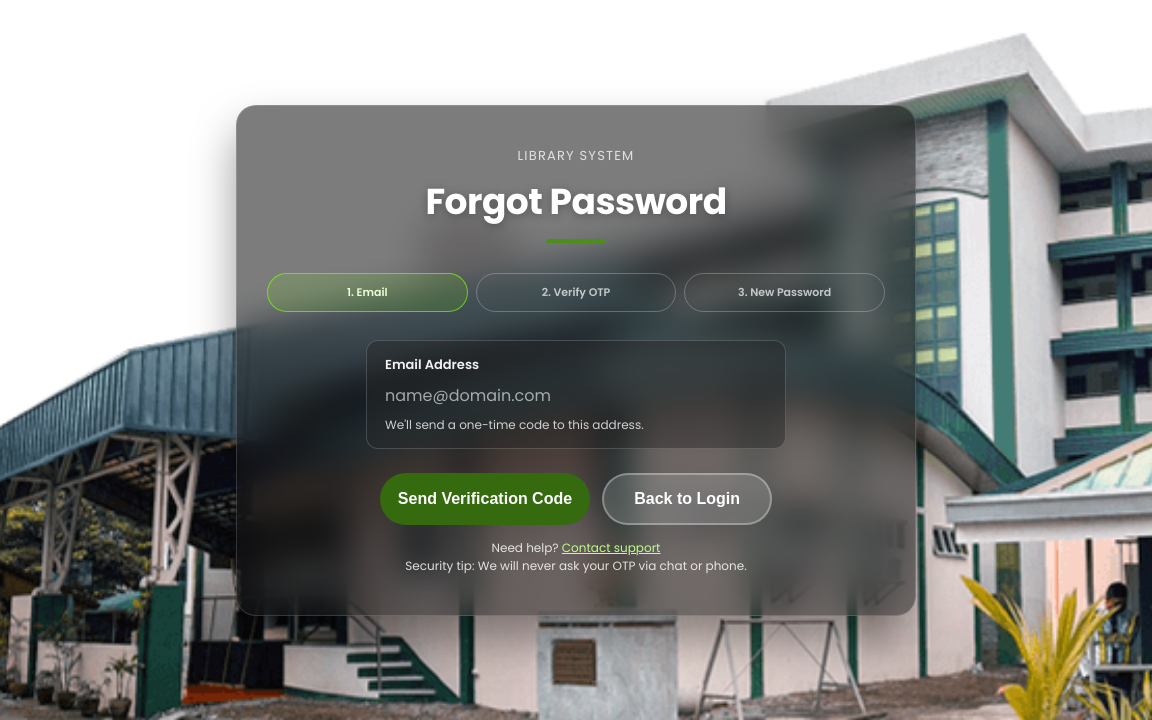
ForgotPassword › advances to OTP step after sending the code
Type "teacher@cvsu.edu.ph" into the field labelled "Email Address" at (576, 395), box [385,383,767,407]
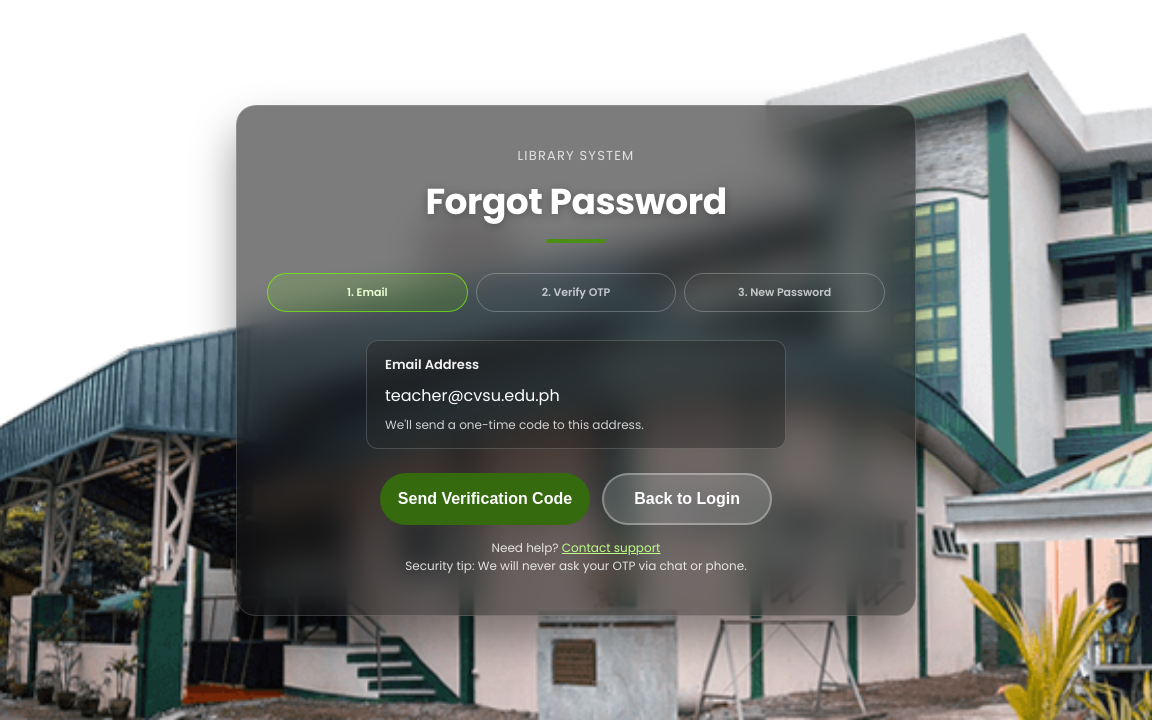
Click the button "Send Verification Code" at (485, 498), box [380,472,590,524]
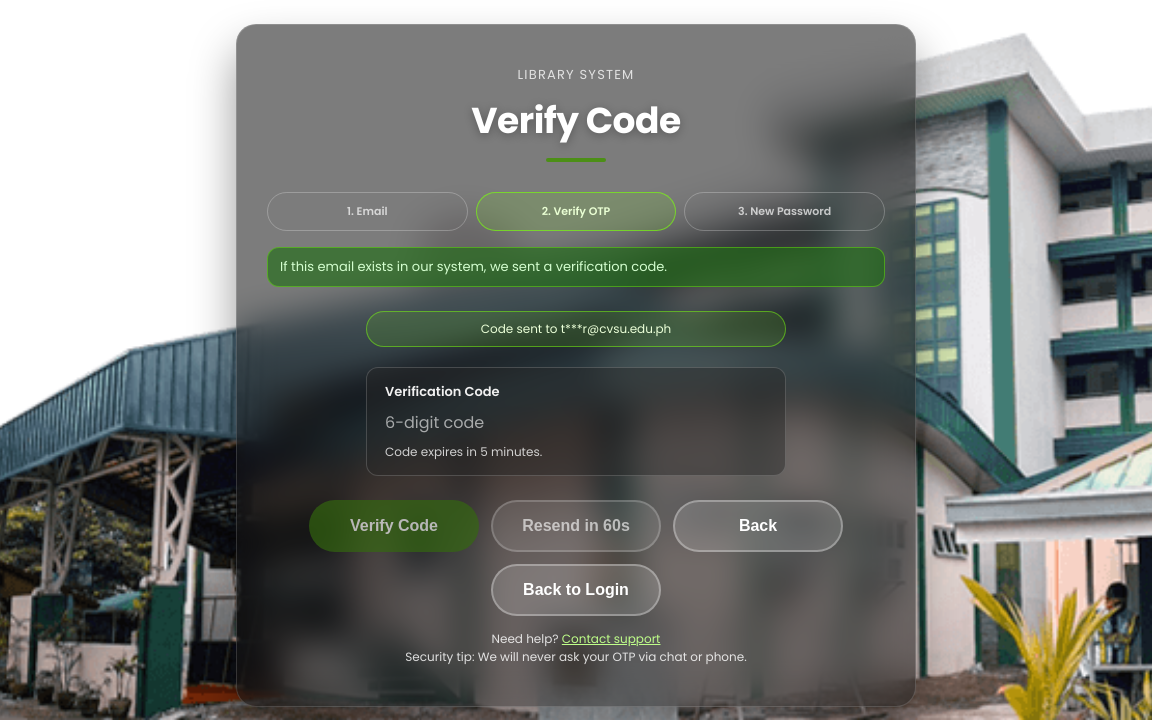
Expected: the text with id "forgot-title" reads "Verify Code", [471,95,681,146]
Expected: the field labelled "Verification Code" is shown, [385,411,767,435]
